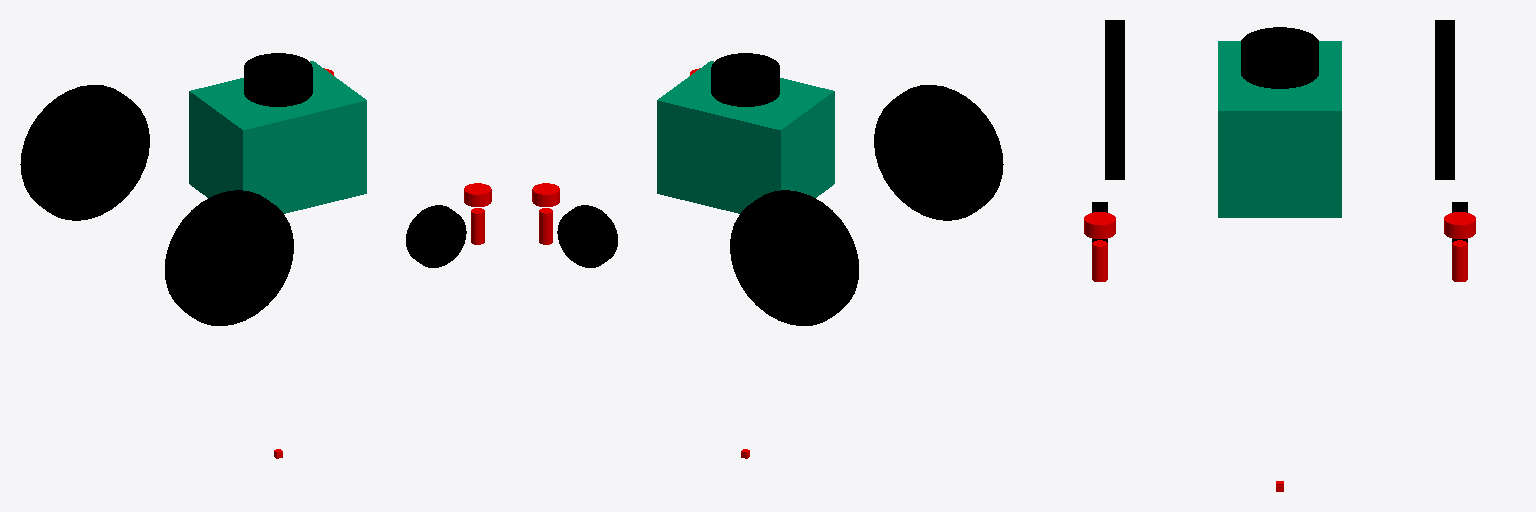
The robot description file, URDF, robot "aug_2024":
<?xml version="1.0" ?>
<!-- =================================================================================== -->
<!-- |    This document was autogenerated by xacro from [local-path]/aug2024/src/aug_2024/description/urdf/aug_2024.xacro | -->
<!-- |    EDITING THIS FILE BY HAND IS NOT RECOMMENDED                                 | -->
<!-- =================================================================================== -->
<!-- This URDF was automatically created by SolidWorks to URDF Exporter! Originally created by [author] ([email redacted]) 
     Commit Version: 1.6.0-4-g7f85cfe  Build Version: 1.6.7995.38578
     For more information, please see http://wiki.ros.org/sw_urdf_exporter -->
<robot name="aug_2024">
  <material name="white">
    <color rgba="1 1 1 1"/>
  </material>
  <material name="black">
    <color rgba="0 0 0 1"/>
  </material>
  <material name="red">
    <color rgba="1 0 0 1"/>
  </material>
  <link name="base_footprint"/>
  <link name="base_link">
    <visual>
      <geometry>
        <box size=".01 .01 .01"/>
        <!-- 20x18x20 inches -->
      </geometry>
      <material name="red"/>
    </visual>
    <collision>
      <geometry>
        <box size="0 0 0"/>
      </geometry>
    </collision>
    <inertial>
      <mass value="10"/>
      <inertia ixx="0.4" ixy="0.0" ixz="0.0" iyy="0.4" iyz="0.0" izz="0.2"/>
    </inertial>
  </link>
  <joint name="base_joint" type="fixed">
    <parent link="base_footprint"/>
    <child link="base_link"/>
    <origin rpy="0 0 0" xyz="0 0 0.1016"/>
  </joint>
  <link name="chassis_link">
    <visual>
      <geometry>
        <box size="0.208 0.1572 0.15"/>
        <!-- 20x18x20 inches -->
      </geometry>
      <material name="chassis_color">
        <color rgba="1 1 0"/>
        <!-- Light gray color, adjust as needed -->
      </material>
    </visual>
    <collision>
      <geometry>
        <box size="0.208 0.1572 0.15"/>
        <!-- 20x18x20 inches -->
      </geometry>
    </collision>
    <inertial>
      <mass value="10"/>
      <!-- Adjust mass as appropriate for your robot -->
      <inertia ixx="0.3729" ixy="0.0" ixz="0.0" iyy="0.3929" iyz="0.0" izz="0.3729"/>
      <!-- Inertia values are approximate. Adjust as needed. -->
    </inertial>
  </link>
  <joint name="base_to_chassis" type="fixed">
    <parent link="base_link"/>
    <child link="chassis_link"/>
    <origin rpy="0 0 0" xyz="0 0 0.5"/>
    <!-- Adjust origin as needed -->
  </joint>
  <link name="rear_right_wheel">
    <visual>
      <geometry>
        <cylinder length="0.0254" radius="0.1016"/>
        <!-- 8 inch diameter -->
      </geometry>
      <material name="black"/>
    </visual>
    <collision>
      <geometry>
        <cylinder length="0.0254" radius="0.1016"/>
      </geometry>
    </collision>
    <inertial>
      <mass value="1"/>
      <inertia ixx="0.01" ixy="0.0" ixz="0.0" iyy="0.01" iyz="0.0" izz="0.01"/>
    </inertial>
  </link>
  <joint name="rear_right_wheel_joint" type="continuous">
    <parent link="chassis_link"/>
    <child link="rear_right_wheel"/>
    <origin rpy="1.5707 0 0" xyz="-0.2032 -0.20955 -0.054"/>
    <!-- 8 inches back, 8.25 inches right, 10 inches down -->
    <axis xyz="0 0 1"/>
  </joint>
  <link name="rear_left_wheel">
    <visual>
      <geometry>
        <cylinder length="0.0254" radius="0.1016"/>
        <!-- 8 inch diameter -->
      </geometry>
      <material name="black"/>
    </visual>
    <collision>
      <geometry>
        <cylinder length="0.0254" radius="0.1016"/>
      </geometry>
    </collision>
    <inertial>
      <mass value="1"/>
      <inertia ixx="0.01" ixy="0.0" ixz="0.0" iyy="0.01" iyz="0.0" izz="0.01"/>
    </inertial>
  </link>
  <joint name="rear_left_wheel_joint" type="continuous">
    <parent link="chassis_link"/>
    <child link="rear_left_wheel"/>
    <origin rpy="1.5707 0 0" xyz="-0.2032 0.20955 -0.054"/>
    <!-- 8 inches back, 8.25 inches left, 10 inches down -->
    <axis xyz="0 0 1"/>
  </joint>
  <gazebo reference="rear_left_wheel_joint">
    <provideFeedback>true</provideFeedback>
    <implicitSpringDamper>true</implicitSpringDamper>
  </gazebo>
  <gazebo reference="rear_right_wheel_joint">
    <provideFeedback>true</provideFeedback>
    <implicitSpringDamper>true</implicitSpringDamper>
  </gazebo>
  <link name="right_caster_base">
    <visual>
      <geometry>
        <cylinder length="0.02" radius="0.02"/>
      </geometry>
      <material name="red"/>
    </visual>
    <collision>
      <geometry>
        <cylinder length="0.02" radius="0.02"/>
      </geometry>
    </collision>
    <inertial>
      <mass value="0.1"/>
      <inertia ixx="0.00001" ixy="0" ixz="0" iyy="0.00001" iyz="0" izz="0.00001"/>
    </inertial>
  </link>
  <joint name="right_caster_base_joint" type="fixed">
    <parent link="chassis_link"/>
    <child link="right_caster_base"/>
    <origin xyz="0.2032 -0.2286 -0.04"/>
  </joint>
  <link name="left_caster_base">
    <visual>
      <geometry>
        <cylinder length="0.02" radius="0.02"/>
      </geometry>
      <material name="red"/>
    </visual>
    <collision>
      <geometry>
        <cylinder length="0.02" radius="0.02"/>
      </geometry>
    </collision>
    <inertial>
      <mass value="0.1"/>
      <inertia ixx="0.00001" ixy="0" ixz="0" iyy="0.00001" iyz="0" izz="0.00001"/>
    </inertial>
  </link>
  <joint name="left_caster_base_joint" type="fixed">
    <parent link="chassis_link"/>
    <child link="left_caster_base"/>
    <origin xyz="0.2032 0.2286 -0.04"/>
  </joint>
  <link name="right_caster_swivel">
    <visual>
      <geometry>
        <cylinder length="0.05" radius="0.01"/>
      </geometry>
      <material name="red"/>
    </visual>
    <collision>
      <geometry>
        <cylinder length="0.05" radius="0.01"/>
      </geometry>
    </collision>
    <inertial>
      <mass value="0.1"/>
      <inertia ixx="0.00001" ixy="0" ixz="0" iyy="0.00001" iyz="0" izz="0.00001"/>
    </inertial>
  </link>
  <joint name="right_caster_swivel_joint" type="continuous">
    <parent link="right_caster_base"/>
    <child link="right_caster_swivel"/>
    <axis xyz="0 0 1"/>
    <origin xyz="0 0 -0.05"/>
    <dynamics damping="0.5" friction="0.1"/>
  </joint>
  <link name="left_caster_swivel">
    <visual>
      <geometry>
        <cylinder length="0.05" radius="0.01"/>
      </geometry>
      <material name="red"/>
    </visual>
    <collision>
      <geometry>
        <cylinder length="0.05" radius="0.01"/>
      </geometry>
    </collision>
    <inertial>
      <mass value="0.1"/>
      <inertia ixx="0.00001" ixy="0" ixz="0" iyy="0.00001" iyz="0" izz="0.00001"/>
    </inertial>
  </link>
  <joint name="left_caster_swivel_joint" type="continuous">
    <parent link="left_caster_base"/>
    <child link="left_caster_swivel"/>
    <axis xyz="0 0 1"/>
    <origin xyz="0 0 -0.05"/>
    <dynamics damping="0.5" friction="0.1"/>
  </joint>
  <link name="right_caster_wheel">
    <visual>
      <geometry>
        <cylinder length="0.02" radius="0.0454"/>
      </geometry>
      <material name="black"/>
    </visual>
    <collision>
      <geometry>
        <cylinder length="0.02" radius="0.0454"/>
      </geometry>
    </collision>
    <inertial>
      <mass value="0.1"/>
      <inertia ixx="0.00002" ixy="0" ixz="0" iyy="0.00002" iyz="0" izz="0.00001"/>
    </inertial>
  </link>
  <joint name="right_caster_wheel_joint" type="continuous">
    <parent link="right_caster_swivel"/>
    <child link="right_caster_wheel"/>
    <origin rpy="1.5707 0 0" xyz="-0.07 0 0"/>
    <axis xyz="0 0 1 "/>
    <dynamics damping="0.5" friction="0.1"/>
  </joint>
  <link name="left_caster_wheel">
    <visual>
      <geometry>
        <cylinder length="0.02" radius="0.0454"/>
      </geometry>
      <material name="black"/>
    </visual>
    <collision>
      <geometry>
        <cylinder length="0.02" radius="0.0454"/>
      </geometry>
    </collision>
    <inertial>
      <mass value="0.1"/>
      <inertia ixx="0.00002" ixy="0" ixz="0" iyy="0.00002" iyz="0" izz="0.00001"/>
    </inertial>
  </link>
  <joint name="left_caster_wheel_joint" type="continuous">
    <parent link="left_caster_swivel"/>
    <child link="left_caster_wheel"/>
    <origin rpy="1.5707 0 0" xyz="-0.07 0 0"/>
    <axis xyz="0 0 1 "/>
    <dynamics damping="0.5" friction="0.1"/>
  </joint>
  <gazebo reference="right_caster_swivel_joint">
    <implicitSpringDamper>1</implicitSpringDamper>
  </gazebo>
  <gazebo reference="right_caster_wheel_joint">
    <implicitSpringDamper>1</implicitSpringDamper>
  </gazebo>
  <gazebo reference="left_caster_swivel_joint">
    <implicitSpringDamper>1</implicitSpringDamper>
  </gazebo>
  <gazebo reference="left_caster_wheel_joint">
    <implicitSpringDamper>1</implicitSpringDamper>
  </gazebo>
  <link name="lidar_link">
    <visual>
      <geometry>
        <cylinder length="0.04" radius="0.05"/>
      </geometry>
      <material name="black"/>
    </visual>
    <collision>
      <geometry>
        <cylinder length="0.04" radius="0.05"/>
      </geometry>
    </collision>
    <inertial>
      <mass value="0.1"/>
      <inertia ixx="0.000033" ixy="0.0" ixz="0.0" iyy="0.000033" iyz="0.0" izz="0.00006"/>
    </inertial>
  </link>
  <joint name="lidar_joint" type="fixed">
    <parent link="chassis_link"/>
    <child link="lidar_link"/>
    <origin rpy="0 0 0" xyz="0 0 0.1"/>
  </joint>
  <gazebo reference="lidar_link">
    <sensor name="lidar" type="ray">
      <pose>0 0 0 0 0 0</pose>
      <visualize>true</visualize>
      <update_rate>10</update_rate>
      <ray>
        <scan>
          <horizontal>
            <samples>360</samples>
            <resolution>1</resolution>
            <min_angle>-3.14159</min_angle>
            <max_angle>3.14159</max_angle>
          </horizontal>
        </scan>
        <range>
          <min>0.3</min>
          <max>12.0</max>
          <resolution>0.01</resolution>
        </range>
      </ray>
      <plugin filename="libgazebo_ros_ray_sensor.so" name="gazebo_ros_lidar_controller">
        <ros>
          <namespace>/</namespace>
          <remapping>~/out:=scan</remapping>
        </ros>
        <output_type>sensor_msgs/LaserScan</output_type>
        <frame_name>lidar_link</frame_name>
      </plugin>
    </sensor>
  </gazebo>
  <ros2_control name="AUG2024System" type="system">
    <hardware>
      <plugin>BMC_2024/AUG2024Hardware</plugin>
      <param name="rear_left_wheel_name">rear_left_wheel_joint</param>
      <param name="rear_right_wheel_name">rear_right_wheel_joint</param>
      <param name="can_interface">can0</param>
      <param name="can_rl_id">183</param>
      <param name="can_rr_id">178</param>
      <param name="rl_mult">1.0</param>
      <param name="rr_mult">-1.0</param>
      <param name="pid_p">0.5</param>
      <param name="pid_i">10.0</param>
      <param name="pid_d">0.0</param>
    </hardware>
    <joint name="rear_left_wheel_joint">
      <command_interface name="velocity">
        <param name="min">-10</param>
        <param name="max">10</param>
      </command_interface>
      <state_interface name="velocity"/>
      <state_interface name="position"/>
    </joint>
    <joint name="rear_right_wheel_joint">
      <command_interface name="velocity">
        <param name="min">-10</param>
        <param name="max">10</param>
      </command_interface>
      <state_interface name="velocity"/>
      <state_interface name="position"/>
    </joint>
  </ros2_control>
  <gazebo reference="base_link">
    <material>Gazebo/Red</material>
  </gazebo>
  <gazebo>
    <plugin filename="libgazebo_ros2_control.so" name="gazebo_ros2_control">
      <parameters>[local-path]/aug2024/install/aug_2024/share/aug_2024/config/flippo_controllers.yaml</parameters>
      <robotParam>/robot_description</robotParam>
    </plugin>
  </gazebo>
  <gazebo>
    <plugin filename="libgazebo_ros_state.so" name="gazebo_ros_state">
      <update_rate>10</update_rate>
    </plugin>
  </gazebo>
  <gazebo reference="rear_left_wheel">
    <material>Gazebo/Black</material>
    <mu1 value="1.0"/>
    <mu2 value="1.0"/>
    <kp value="10000000.0"/>
    <kd value="1.0"/>
  </gazebo>
  <gazebo reference="rear_right_wheel">
    <material>Gazebo/Black</material>
    <mu1 value="1.0"/>
    <mu2 value="1.0"/>
    <kp value="10000000.0"/>
    <kd value="1.0"/>
  </gazebo>
</robot>

--- What the picture shows (computed from the rendered views, not written in the file) ---
3 views of the same robot in one strip: view 1: azimuth 30°, elevation 25°; view 2: azimuth 150°, elevation 25°; view 3: azimuth 270°, elevation 25° (orthographic).
Robot: aug_2024 — 12 links, 11 joints (6 continuous, 5 fixed); root link base_footprint; default pose: all joints at 0.
Visible links, largest first — view 1: chassis_link, rear_left_wheel, rear_right_wheel, lidar_link, right_caster_wheel, right_caster_base; view 2: chassis_link, rear_right_wheel, rear_left_wheel, lidar_link, left_caster_wheel, left_caster_base; view 3: chassis_link, lidar_link, rear_right_wheel, rear_left_wheel, right_caster_base, left_caster_base, right_caster_swivel, left_caster_swivel.
Boxes of the visible links, x1,y1,x2,y2 form: chassis_link: [189, 61, 366, 213]; rear_left_wheel: [20, 85, 149, 220]; rear_right_wheel: [165, 190, 293, 325]; lidar_link: [244, 53, 312, 106]; right_caster_wheel: [406, 205, 466, 267]; right_caster_base: [464, 183, 491, 206]; chassis_link: [657, 61, 834, 213]; rear_right_wheel: [874, 85, 1003, 220]; rear_left_wheel: [730, 190, 858, 325]; lidar_link: [711, 53, 779, 106]; left_caster_wheel: [557, 205, 617, 267]; left_caster_base: [532, 183, 559, 206]; chassis_link: [1218, 41, 1341, 217]; lidar_link: [1241, 27, 1318, 88]; rear_right_wheel: [1105, 20, 1124, 179]; rear_left_wheel: [1435, 20, 1454, 179]; right_caster_base: [1084, 212, 1115, 238]; left_caster_base: [1444, 212, 1475, 238]; right_caster_swivel: [1092, 240, 1107, 281]; left_caster_swivel: [1452, 240, 1467, 281].
Bounding box of the posed robot: 0.528 × 0.4972 × 0.625 m (x, y, z).
Geometry: primitives only (box / cylinder / sphere), no mesh files.
